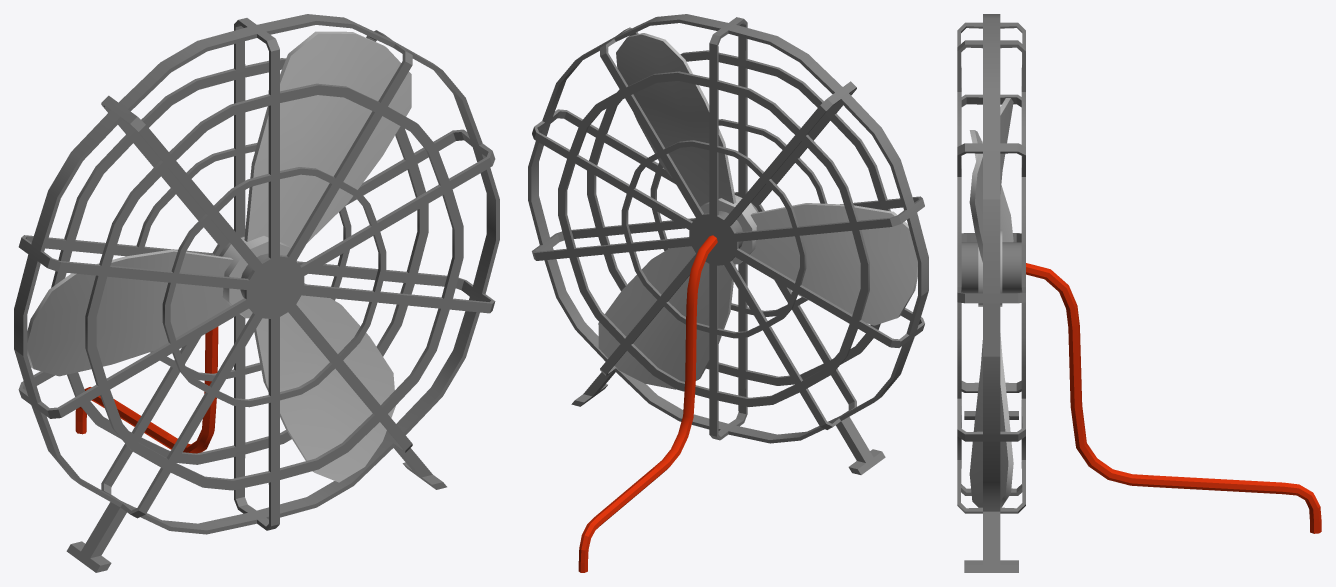
File: Fan.fbx
3 renders of one model, left to right at view 1: azimuth 30°, elevation 25°; view 2: azimuth 150°, elevation 25°; view 3: azimuth 270°, elevation 25°, orthographic. The views are drawn at different scales.
Parts seen in each view (by area): view 1: Body, Fan; view 2: Body, Fan; view 3: Body, Fan.
Part boxes in pixels (left/top/right/bottom): Body: left=14, top=14, right=499, bottom=572; Fan: left=27, top=31, right=411, bottom=482; Body: left=528, top=14, right=928, bottom=572; Fan: left=598, top=33, right=917, bottom=389; Body: left=957, top=14, right=1321, bottom=572; Fan: left=969, top=98, right=1013, bottom=507.
Size of the model in its own units: 82.82 by 88.2 by 59.5.
Materials: 1 (1 with a texture image).
